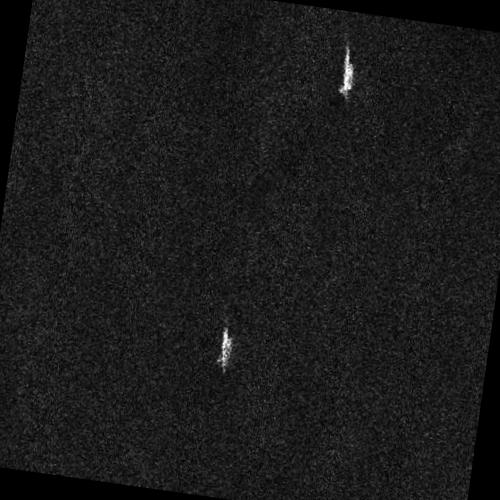ship: (340, 43, 354, 100), (220, 326, 232, 370)
